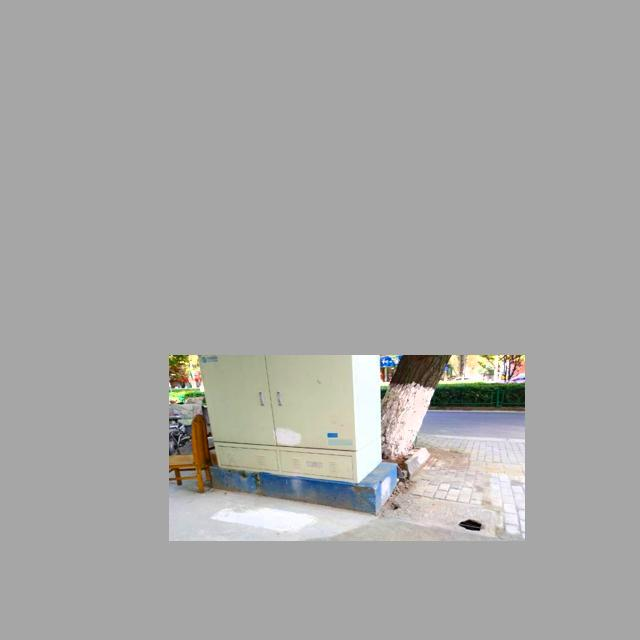broke: (386, 490, 500, 537)
